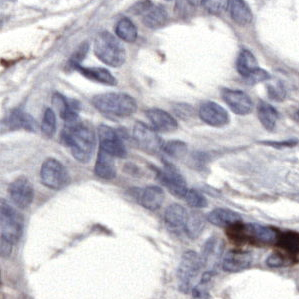Lymphocyte: (224, 219, 250, 245)
